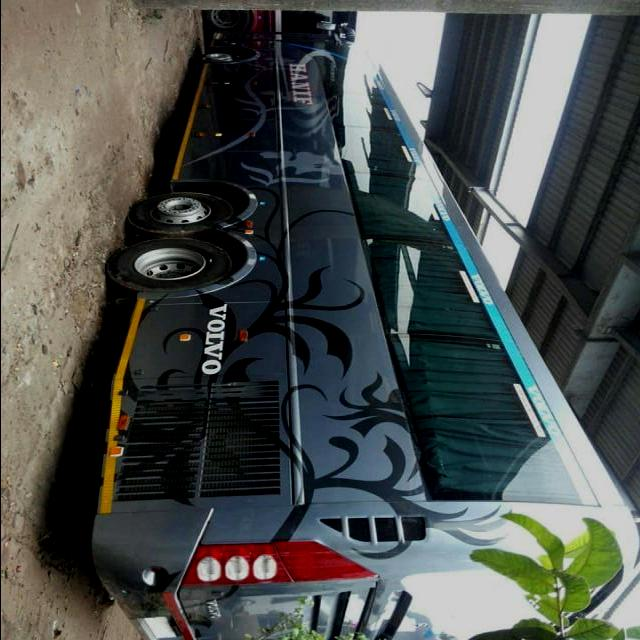bus: (86, 21, 640, 640)
